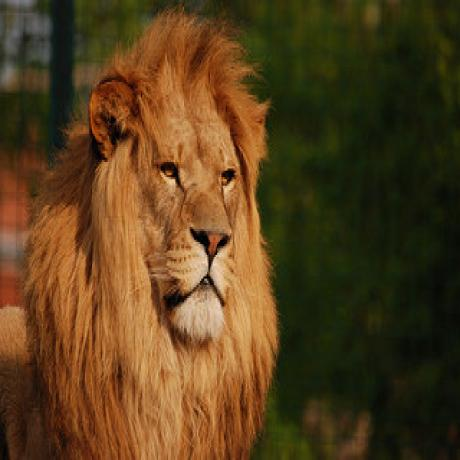Lion: (0, 5, 281, 460)
